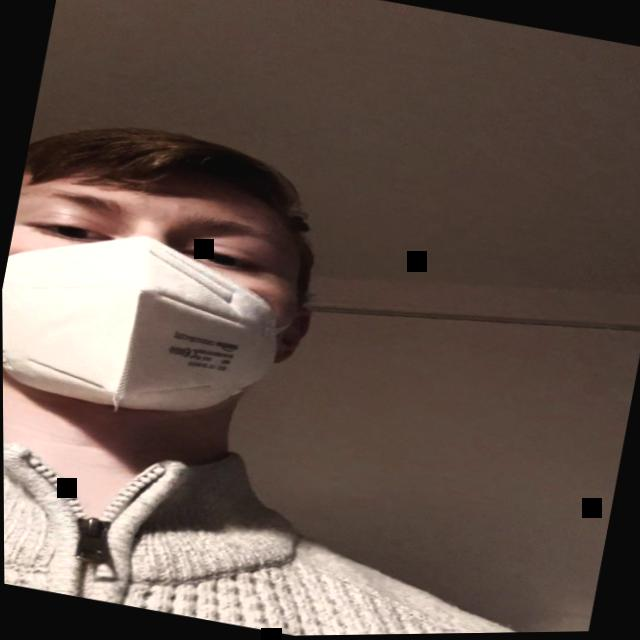Mask: (1, 144, 317, 440)
